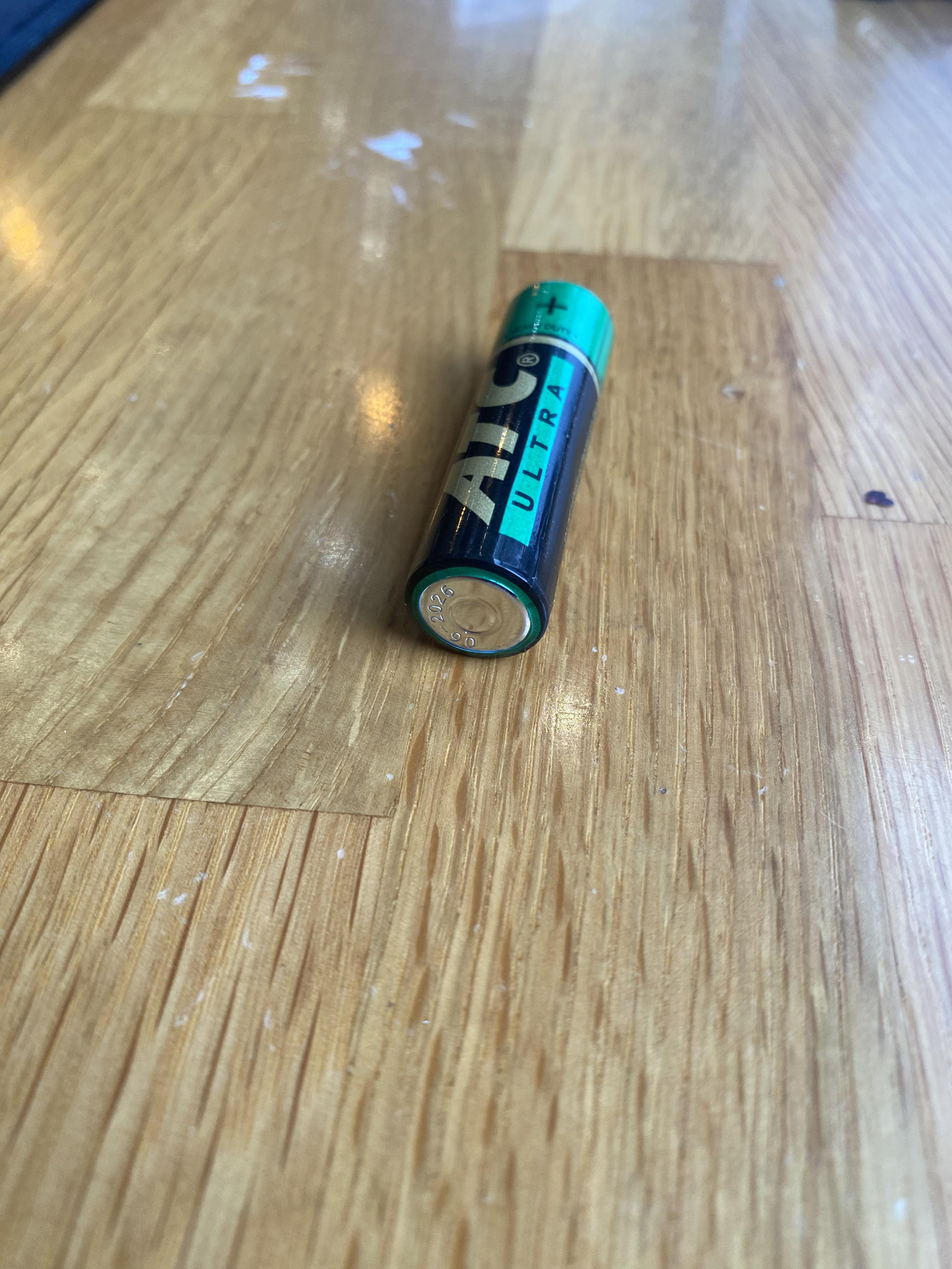AA: (402, 278, 615, 659)
